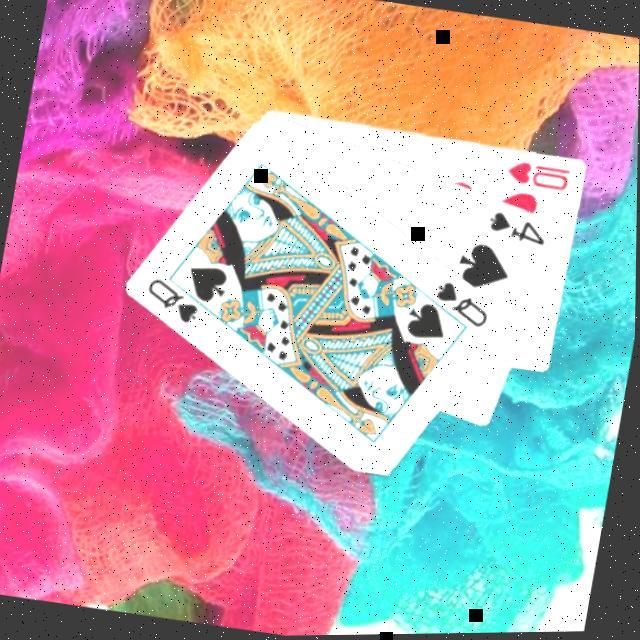10H: (504, 157, 576, 198)
4S: (484, 208, 554, 252)
QS: (430, 277, 500, 335), (140, 273, 209, 331)
